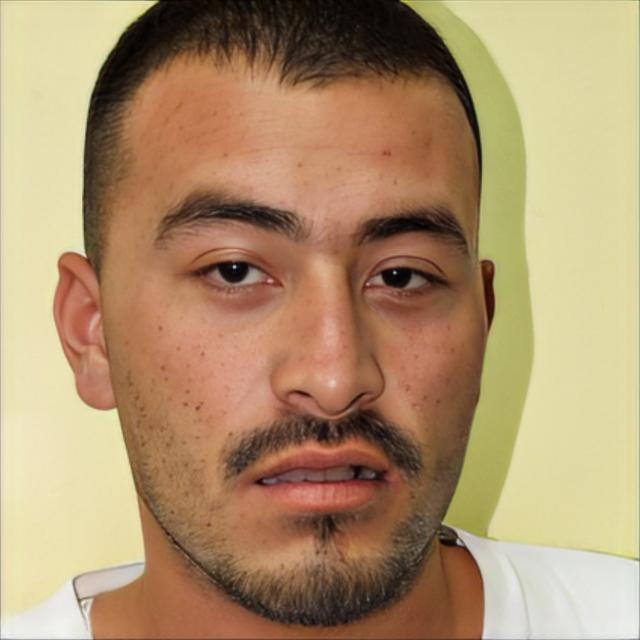neutral: (107, 49, 488, 618)
